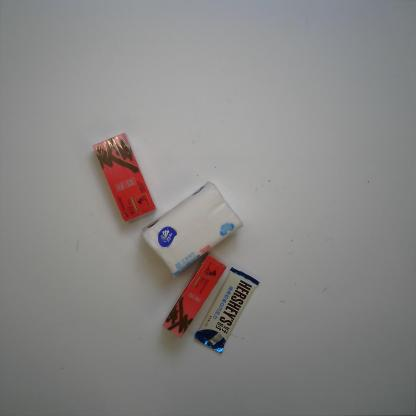Chocolate: (194, 265, 261, 355)
Instant Drink: (92, 132, 158, 222), (162, 249, 228, 339)
Tissue: (140, 180, 245, 281)
